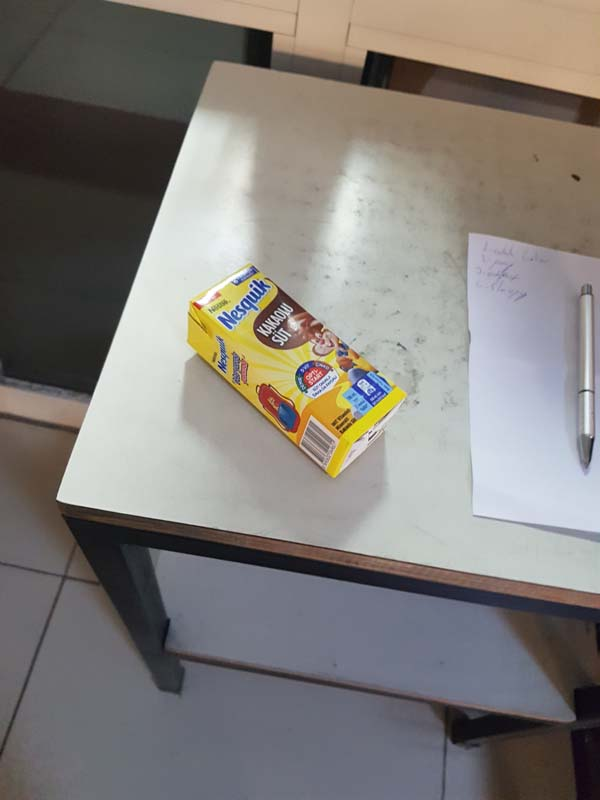nesquick200ml: (188, 255, 409, 486)
